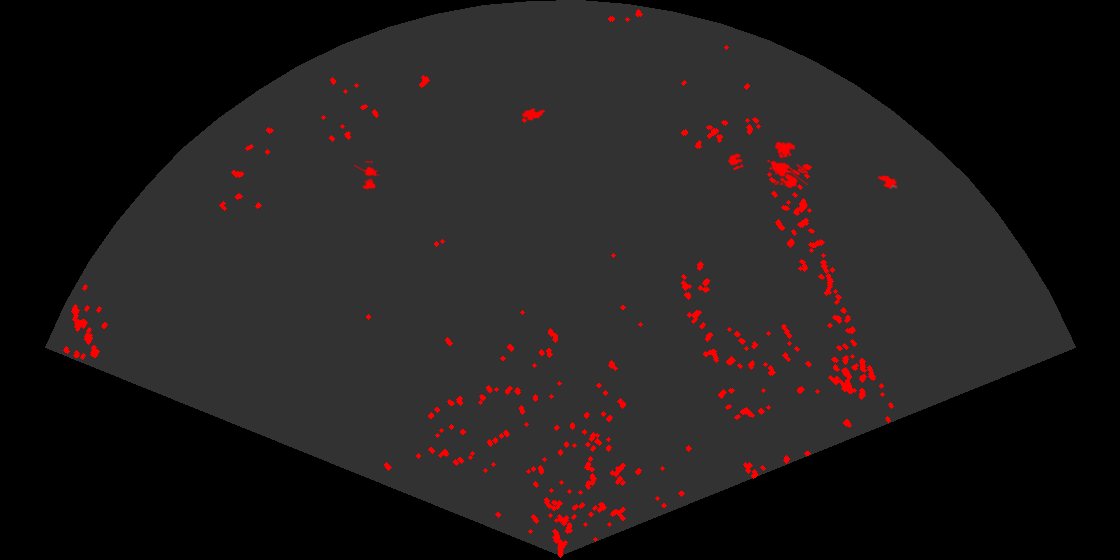AUV: (520, 107, 547, 122), (876, 174, 899, 190)
ball: (778, 165, 802, 190), (726, 152, 745, 172)
cage: (765, 140, 808, 185), (354, 161, 381, 191)
